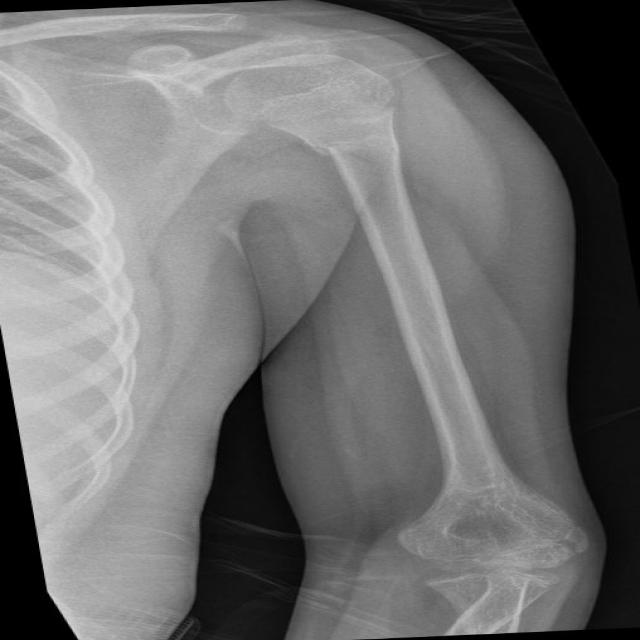Oblique Displaced: (297, 129, 417, 219)
